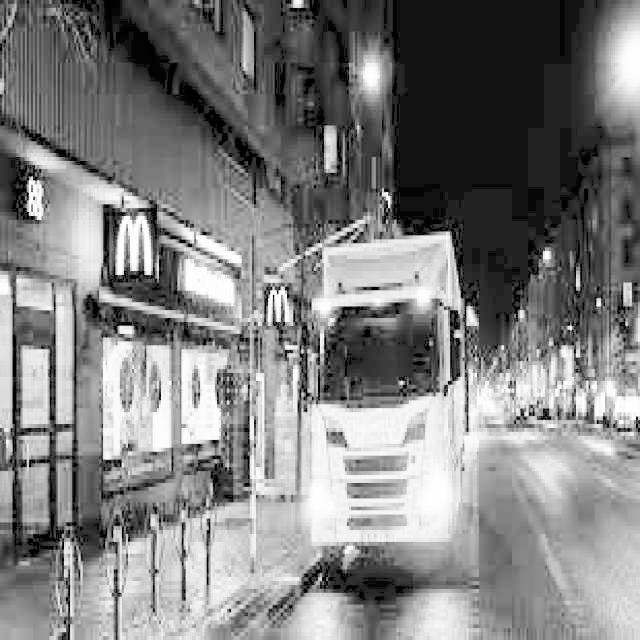Truck: (304, 228, 469, 578)
